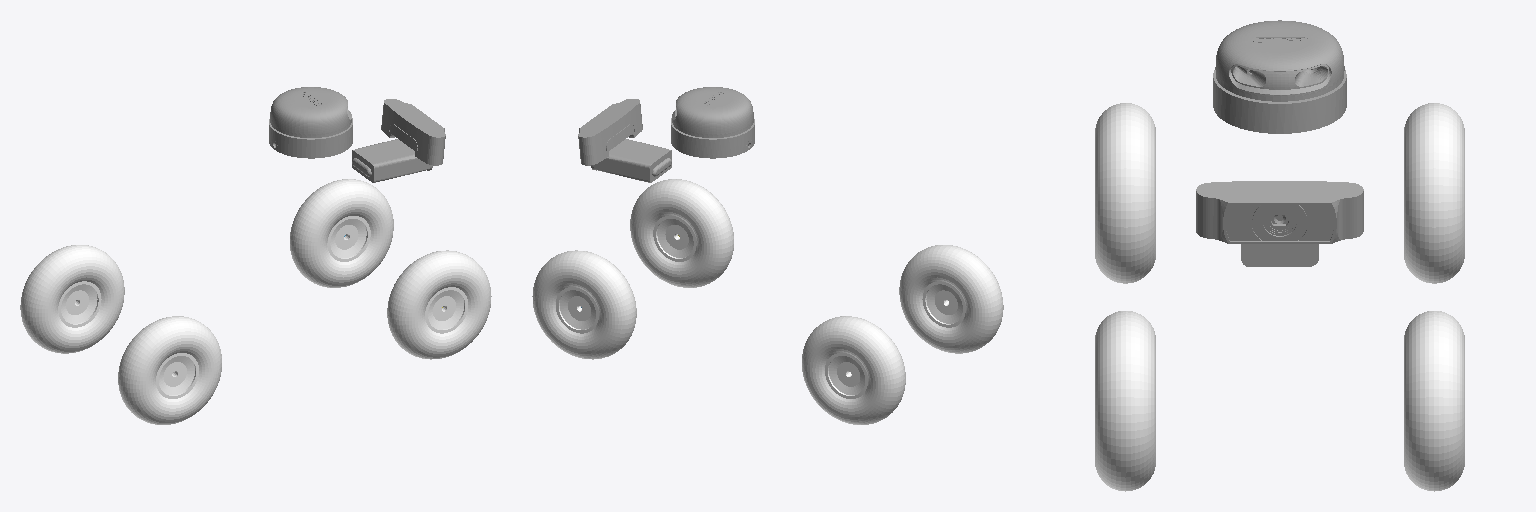
URDF robot description (rlcar_body):
<?xml version="1.0" ?>
<!-- =================================================================================== -->
<!-- |    This document was autogenerated by xacro from [local-path]/djhrd_ws/src/djhrd_ros2/rlcar_description/urdf/rlcar_body.urdf.xacro | -->
<!-- |    EDITING THIS FILE BY HAND IS NOT RECOMMENDED                                 | -->
<!-- =================================================================================== -->
<robot name="rlcar_body">
  <material name="silver">
    <color rgba="0.700 0.700 0.700 1.000"/>
  </material>
  <material name="black">
    <color rgba="1.000 1.000 1.000 1.000"/>
  </material>
  <link name="base_link">
    <inertial>
      <origin rpy="0 0 0" xyz="0.08610442944117125 -0.0010181684635799757 0.03851437758777222"/>
      <mass value="2.9675633650363595"/>
      <inertia ixx="0.011642" ixy="0.000148" ixz="0.000342" iyy="0.035651" iyz="-9.3e-05" izz="0.038255"/>
    </inertial>
    <visual>
      <origin rpy="0 0 0" xyz="0 0 0"/>
      <geometry>
        <mesh filename="package://rlcar_description/meshes/ASSAYBODY.stl" scale="0.001 0.001 0.001"/>
      </geometry>
      <material name="silver"/>
    </visual>
    <collision>
      <origin rpy="0 0 0" xyz="0 0 0"/>
      <geometry>
        <mesh filename="package://rlcar_description/meshes/ASSAYBODY.stl" scale="0.001 0.001 0.001"/>
      </geometry>
    </collision>
  </link>
  <link name="lf_steering_hinge_link">
    <inertial>
      <origin rpy="0 0 0" xyz="0 0 0"/>
      <mass value="0.100"/>
      <inertia ixx="4E-06" ixy="0" ixz="0" iyy="4E-06" iyz="0" izz="4E-06"/>
    </inertial>
    <visual>
      <origin rpy="0 0 0" xyz="0 0 0"/>
      <geometry>
        <box size="0.005 0.005 0.005"/>
      </geometry>
    </visual>
  </link>
  <joint name="lf_steering_hinge_joint" type="revolute">
    <origin rpy="0 1.5708 0" xyz="0.276 0.0867 0"/>
    <parent link="base_link"/>
    <child link="lf_steering_hinge_link"/>
    <axis xyz="-1 0 0"/>
    <limit effort="10" lower="-0.7853" upper="0.7853" velocity="100"/>
  </joint>
  <link name="lf_wheel_link">
    <inertial>
      <origin rpy="0 0 0" xyz="0.0 -1.4645191273516483e-15 1.0536108829867972e-17"/>
      <mass value="0.20069792517970372"/>
      <inertia ixx="0.00025" ixy="0.0" ixz="-0.0" iyy="0.00014" iyz="0.0" izz="0.00014"/>
    </inertial>
    <visual>
      <origin rpy="0 0 0" xyz="0 0 0"/>
      <geometry>
        <mesh filename="package://rlcar_description/meshes/wheel.stl" scale="0.001 0.001 0.001"/>
      </geometry>
      <material name="black"/>
    </visual>
    <collision>
      <origin rpy="0 0 0" xyz="0 0 0"/>
      <geometry>
        <mesh filename="package://rlcar_description/meshes/wheel.stl" scale="0.001 0.001 0.001"/>
      </geometry>
    </collision>
  </link>
  <joint name="lf_wheel_joint" type="continuous">
    <origin rpy="0 0 1.5707" xyz="0.0 0.0 0.0"/>
    <parent link="lf_steering_hinge_link"/>
    <child link="lf_wheel_link"/>
    <axis xyz="1 0 0"/>
    <limit effort="10" velocity="100"/>
  </joint>
  <link name="rf_steering_hinge_link">
    <inertial>
      <origin rpy="0 0 0" xyz="0 0 0"/>
      <mass value="0.100"/>
      <inertia ixx="4E-06" ixy="0" ixz="0" iyy="4E-06" iyz="0" izz="4E-06"/>
    </inertial>
    <visual>
      <origin rpy="0 0 0" xyz="0 0 0"/>
      <geometry>
        <box size="0.005 0.005 0.005"/>
      </geometry>
    </visual>
  </link>
  <joint name="rf_steering_hinge_joint" type="revolute">
    <origin rpy="0 1.5708 0" xyz="0.276 -0.0867 0"/>
    <parent link="base_link"/>
    <child link="rf_steering_hinge_link"/>
    <axis xyz="-1 0 0"/>
    <limit effort="10" lower="-0.7853" upper="0.7853" velocity="100"/>
  </joint>
  <link name="rf_wheel_link">
    <inertial>
      <origin rpy="0 0 0" xyz="0.0 -1.4645191273516483e-15 1.0536108829867972e-17"/>
      <mass value="0.20069792517970372"/>
      <inertia ixx="0.00025" ixy="0.0" ixz="-0.0" iyy="0.00014" iyz="0.0" izz="0.00014"/>
    </inertial>
    <visual>
      <origin rpy="0 0 0" xyz="0 0 0"/>
      <geometry>
        <mesh filename="package://rlcar_description/meshes/wheel.stl" scale="0.001 0.001 0.001"/>
      </geometry>
      <material name="black"/>
    </visual>
    <collision>
      <origin rpy="0 0 0" xyz="0 0 0"/>
      <geometry>
        <mesh filename="package://rlcar_description/meshes/wheel.stl" scale="0.001 0.001 0.001"/>
      </geometry>
    </collision>
  </link>
  <joint name="rf_wheel_joint" type="continuous">
    <origin rpy="0 0 1.5707" xyz="0.0 0.0 0.0"/>
    <parent link="rf_steering_hinge_link"/>
    <child link="rf_wheel_link"/>
    <axis xyz="1 0 0"/>
    <limit effort="10" velocity="100"/>
  </joint>
  <link name="lr_wheel_link">
    <inertial>
      <origin rpy="0 0 0" xyz="0.0 -1.4645191273516483e-15 1.0536108829867972e-17"/>
      <mass value="0.20069792517970372"/>
      <inertia ixx="0.00025" ixy="0.0" ixz="-0.0" iyy="0.00014" iyz="0.0" izz="0.00014"/>
    </inertial>
    <visual>
      <origin rpy="0 0 0" xyz="0 0 0"/>
      <geometry>
        <mesh filename="package://rlcar_description/meshes/wheel.stl" scale="0.001 0.001 0.001"/>
      </geometry>
      <material name="black"/>
    </visual>
    <collision>
      <origin rpy="0 0 0" xyz="0 0 0"/>
      <geometry>
        <mesh filename="package://rlcar_description/meshes/wheel.stl" scale="0.001 0.001 0.001"/>
      </geometry>
    </collision>
  </link>
  <joint name="lr_wheel_joint" type="continuous">
    <origin rpy="0 0 1.5707" xyz="0.0 0.0867 0.0"/>
    <parent link="base_link"/>
    <child link="lr_wheel_link"/>
    <axis xyz="1 0 0"/>
  </joint>
  <link name="rr_wheel_link">
    <inertial>
      <origin rpy="0 0 0" xyz="0.0 -1.4645191273516483e-15 1.0536108829867972e-17"/>
      <mass value="0.20069792517970372"/>
      <inertia ixx="0.00025" ixy="0.0" ixz="-0.0" iyy="0.00014" iyz="0.0" izz="0.00014"/>
    </inertial>
    <visual>
      <origin rpy="0 0 0" xyz="0 0 0"/>
      <geometry>
        <mesh filename="package://rlcar_description/meshes/wheel.stl" scale="0.001 0.001 0.001"/>
      </geometry>
      <material name="black"/>
    </visual>
    <collision>
      <origin rpy="0 0 0" xyz="0 0 0"/>
      <geometry>
        <mesh filename="package://rlcar_description/meshes/wheel.stl" scale="0.001 0.001 0.001"/>
      </geometry>
    </collision>
  </link>
  <joint name="rr_wheel_joint" type="continuous">
    <origin rpy="0 0 1.5707" xyz="0.0 -0.0867 0.0"/>
    <parent link="base_link"/>
    <child link="rr_wheel_link"/>
    <axis xyz="1 0 0"/>
  </joint>
  <link name="rplidar_a2_link">
    <inertial>
      <origin rpy="0 0 0" xyz="0.0034625894668202637 0.00010269753328175684 0.02092482852234422"/>
      <mass value="0.06839266167546813"/>
      <inertia ixx="3.8e-05" ixy="0.0" ixz="-2e-06" iyy="3.9e-05" iyz="-0.0" izz="5.5e-05"/>
    </inertial>
    <visual>
      <origin rpy="0 0 0" xyz="0 0 0"/>
      <geometry>
        <mesh filename="package://rlcar_description/meshes/rplidar_a2.stl" scale="0.001 0.001 0.001"/>
      </geometry>
      <material name="silver"/>
    </visual>
    <collision>
      <origin rpy="0 0 0" xyz="0 0 0"/>
      <geometry>
        <mesh filename="package://rlcar_description/meshes/rplidar_a2.stl" scale="0.001 0.001 0.001"/>
      </geometry>
    </collision>
  </link>
  <joint name="rplidar_a2_joint" type="fixed">
    <origin rpy="0 0 0" xyz="0.1945 0.0 0.1449"/>
    <parent link="base_link"/>
    <child link="rplidar_a2_link"/>
  </joint>
  <link name="logi_camera_link">
    <inertial>
      <origin rpy="0 0 0" xyz="-0.017293584176189366 -2.4383966124928845e-05 0.020495008384212435"/>
      <mass value="0.15033659991756945"/>
      <inertia ixx="8.7e-05" ixy="0.0" ixz="-2e-05" iyy="7.2e-05" iyz="0.0" izz="0.000108"/>
    </inertial>
    <visual>
      <origin rpy="0 0 0" xyz="0 0 0"/>
      <geometry>
        <mesh filename="package://rlcar_description/meshes/logi_camera.stl" scale="0.001 0.001 0.001"/>
      </geometry>
      <material name="silver"/>
    </visual>
    <collision>
      <origin rpy="0 0 0" xyz="0 0 0"/>
      <geometry>
        <mesh filename="package://rlcar_description/meshes/logi_camera.stl" scale="0.001 0.001 0.001"/>
      </geometry>
    </collision>
  </link>
  <joint name="logi_camera_joint" type="fixed">
    <origin rpy="0 0 0" xyz="0.3065 0 0.0982"/>
    <parent link="base_link"/>
    <child link="logi_camera_link"/>
  </joint>
  <link name="imu_link">
    <inertial>
      <mass value="0.01"/>
      <inertia ixx="1.0" ixy="0" ixz="0" iyy="1.0" iyz="0" izz="1.0"/>
    </inertial>
  </link>
  <joint name="imu_joint" type="fixed">
    <origin rpy="0 0 0" xyz="0.2715 0 0.041"/>
    <parent link="base_link"/>
    <child link="imu_link"/>
  </joint>
</robot>

--- Render facts (derived) ---
3 views of the same robot in one strip: view 1: azimuth 30°, elevation 25°; view 2: azimuth 150°, elevation 25°; view 3: azimuth 270°, elevation 25° (orthographic).
Model rlcar_body with 10 links and 9 joints (2 revolute, 4 continuous, 3 fixed), rooted at base_link, posed every joint at zero.
Visible links, largest first — view 1: rr_wheel_link, lr_wheel_link, lf_wheel_link, rf_wheel_link, rplidar_a2_link, logi_camera_link; view 2: lr_wheel_link, rr_wheel_link, rf_wheel_link, lf_wheel_link, rplidar_a2_link, logi_camera_link; view 3: rplidar_a2_link, logi_camera_link, rf_wheel_link, lf_wheel_link, lr_wheel_link, rr_wheel_link.
Link boxes in pixels (x1,y1,x2,y2): rr_wheel_link: (118,316,221,424); lr_wheel_link: (20,245,124,353); lf_wheel_link: (290,179,393,287); rf_wheel_link: (387,250,491,359); rplidar_a2_link: (269,87,352,158); logi_camera_link: (352,99,445,182); lr_wheel_link: (802,316,905,424); rr_wheel_link: (899,245,1003,353); rf_wheel_link: (630,179,733,287); lf_wheel_link: (532,250,636,359); rplidar_a2_link: (671,87,754,158); logi_camera_link: (578,99,671,182); rplidar_a2_link: (1213,20,1346,133); logi_camera_link: (1196,181,1363,266); rf_wheel_link: (1095,311,1155,491); lf_wheel_link: (1404,311,1464,491); lr_wheel_link: (1404,103,1464,283); rr_wheel_link: (1095,103,1155,283).
Size in the robot's own frame: 0.3775 by 0.2078 by 0.2365 metres.
Meshes: 4 distinct files referenced, 6 mesh visuals loaded (3 binary STL); not drawn: 1 (reference not matched to a file when rendering).
